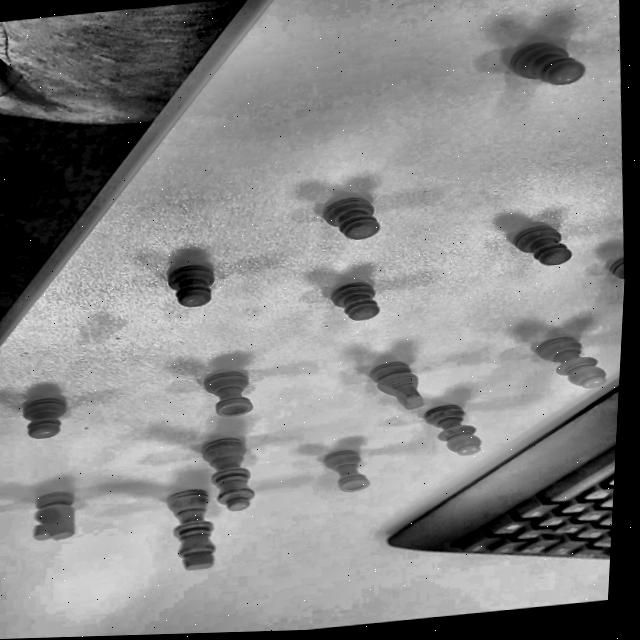white-bishop: (530, 332, 611, 394), (421, 402, 483, 459)
white-king: (164, 488, 219, 572)
white-knight: (366, 358, 427, 414), (29, 490, 78, 543)
white-pawn: (315, 186, 398, 248), (507, 37, 589, 91), (511, 223, 576, 270), (164, 263, 218, 310), (327, 281, 382, 324), (18, 396, 67, 440)
white-queen: (199, 437, 255, 513)
white-rook: (201, 369, 254, 419), (320, 447, 371, 494)
